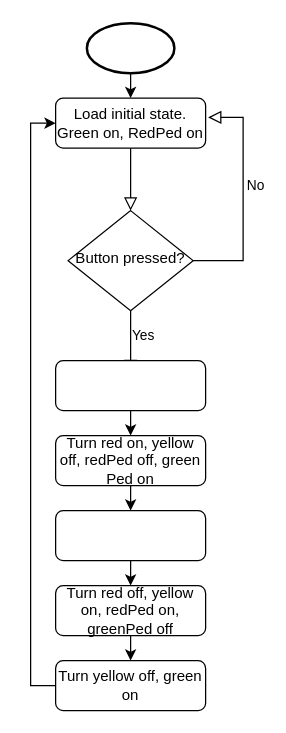
Image size: 286x733. Some labels were removed from this diagram. Each missing label, with the box of its shape:
Long delay: (54, 509, 206, 561)
Start: (85, 21, 175, 74)
Turn yellow on, green off: (54, 359, 206, 411)
